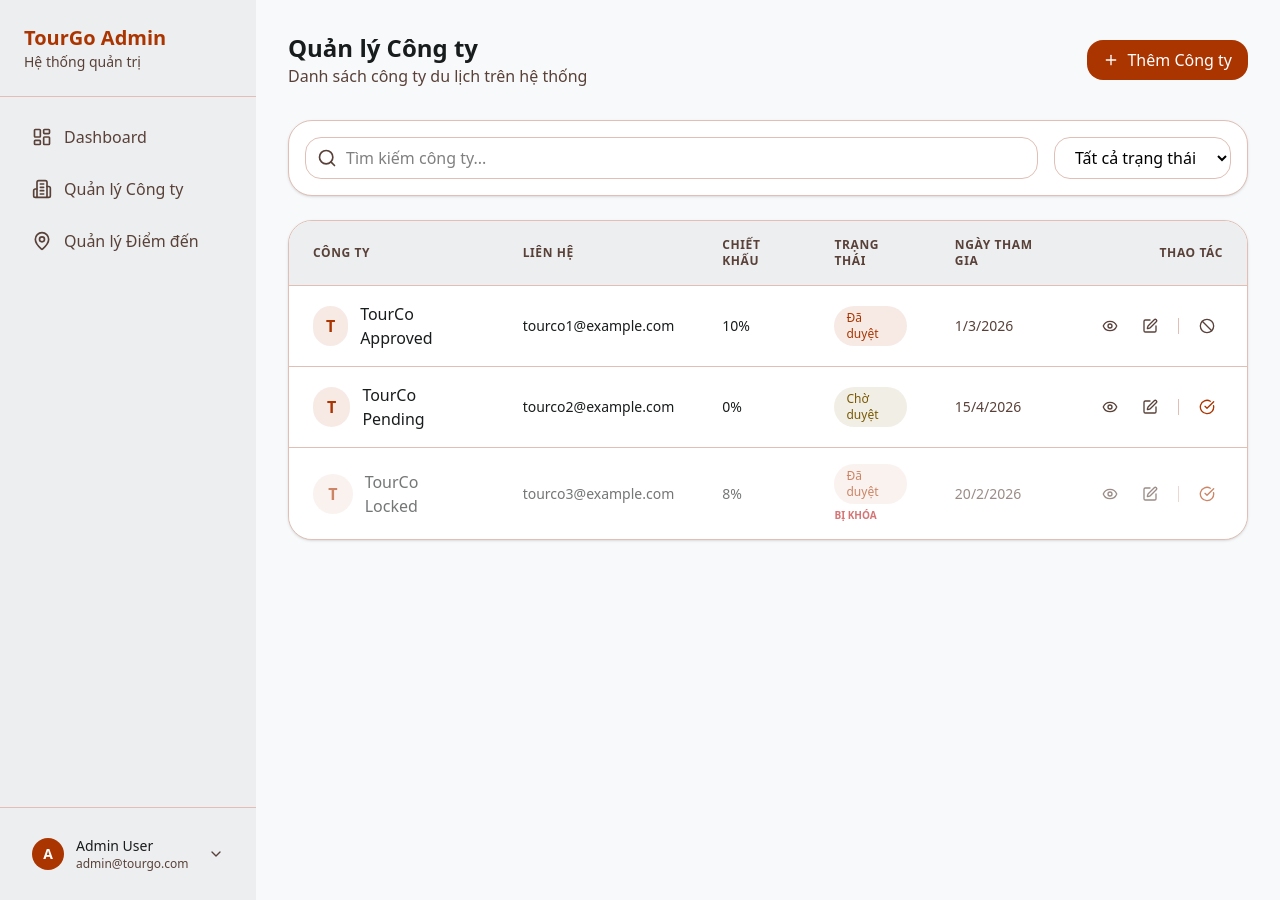
AdminCompaniesPage › filters companies by approval status
The width and height of the screenshot is (1280, 900).
Expected: the text "TourCo Approved" is shown, [360,303,433,349]
Select "Chờ duyệt" in the dropdown showing "Tất cả trạng thái" at [1142, 158], box [1054,137,1231,179]
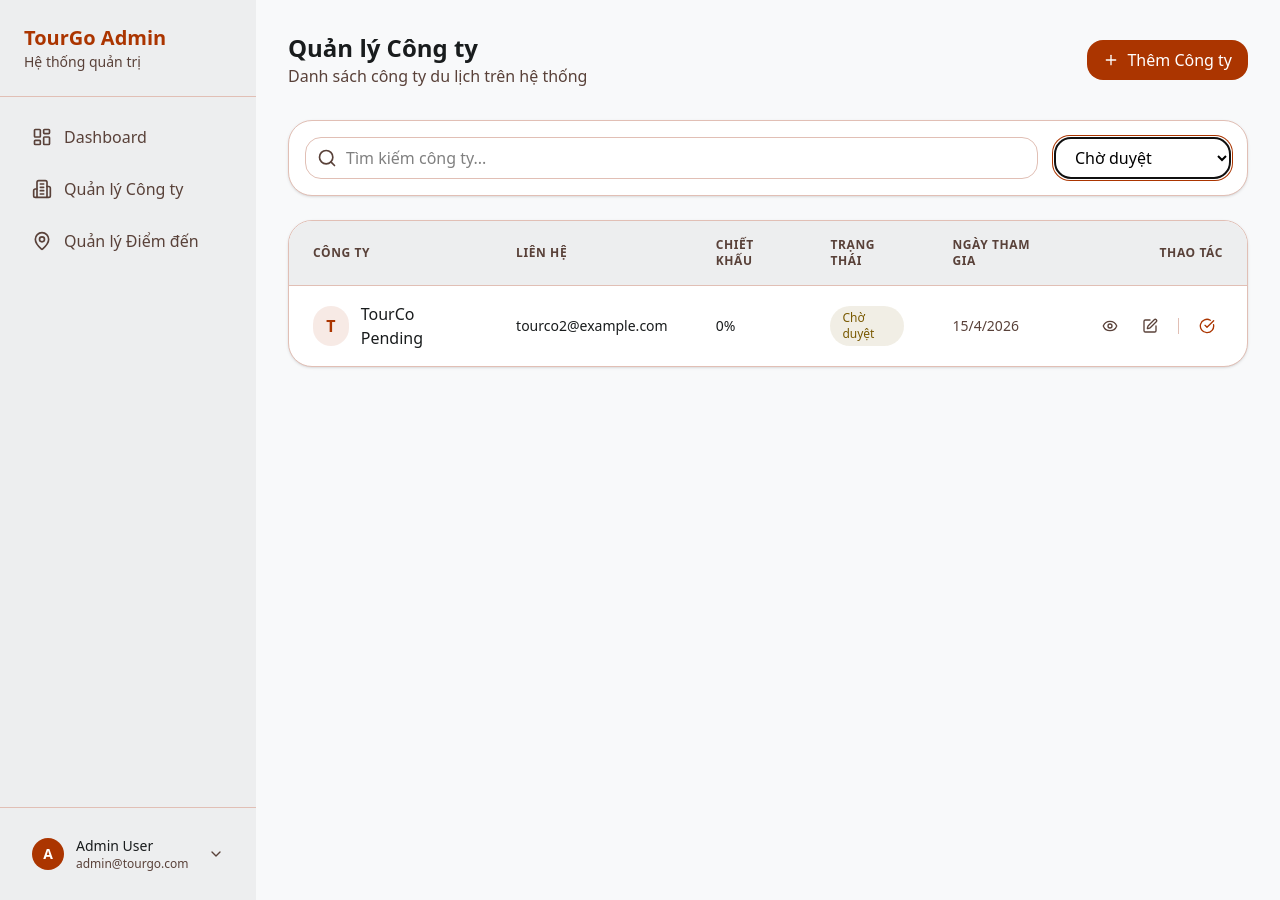
Expected: the text "TourCo Pending" is shown, [361,303,423,349]
Now the text "TourCo Approved" is gone
